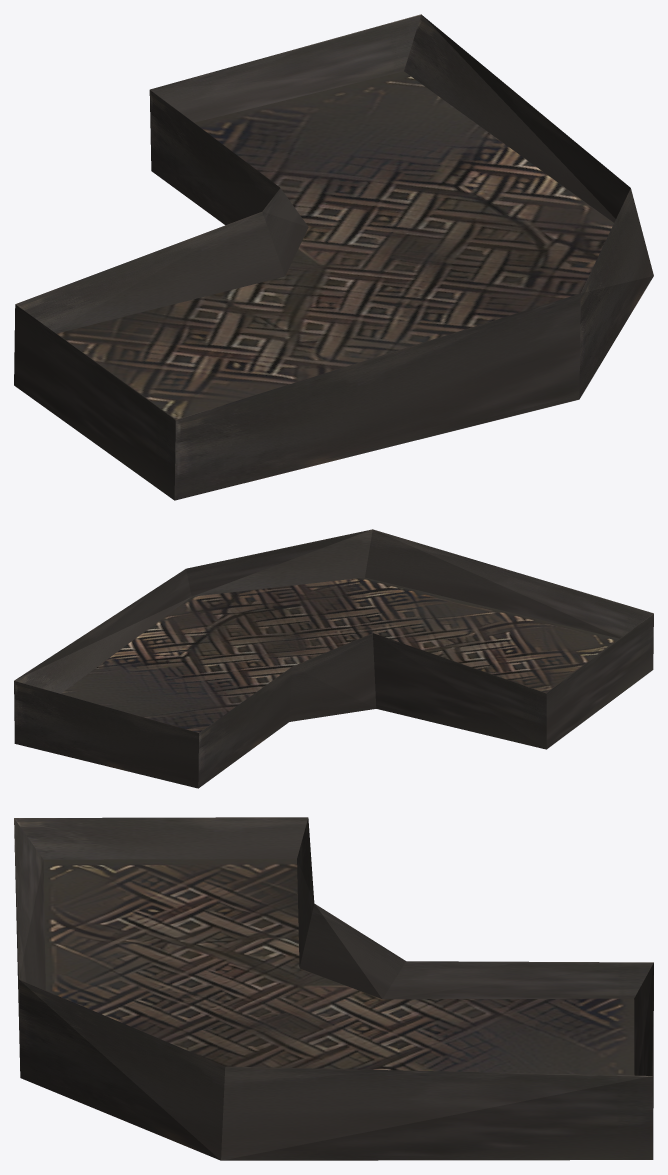
File: lshapevillaburned.gltf
3 renders of one model, top to bottom at view 1: azimuth 30°, elevation 25°; view 2: azimuth 150°, elevation 25°; view 3: azimuth 270°, elevation 25°, orthographic. The views are drawn at different scales.
Parts seen in each view (by area): view 1: lshapevillaburned_atomic0; view 2: lshapevillaburned_atomic0; view 3: lshapevillaburned_atomic0.
Boxes of the visible parts, x1,y1,x2,y2 form: lshapevillaburned_atomic0: (14, 14, 653, 500); lshapevillaburned_atomic0: (14, 529, 653, 788); lshapevillaburned_atomic0: (14, 817, 653, 1160).
Bounding box in the file's own units: 33.2 × 5.93 × 33.49.
Materials: 2 (2 with a texture image).
